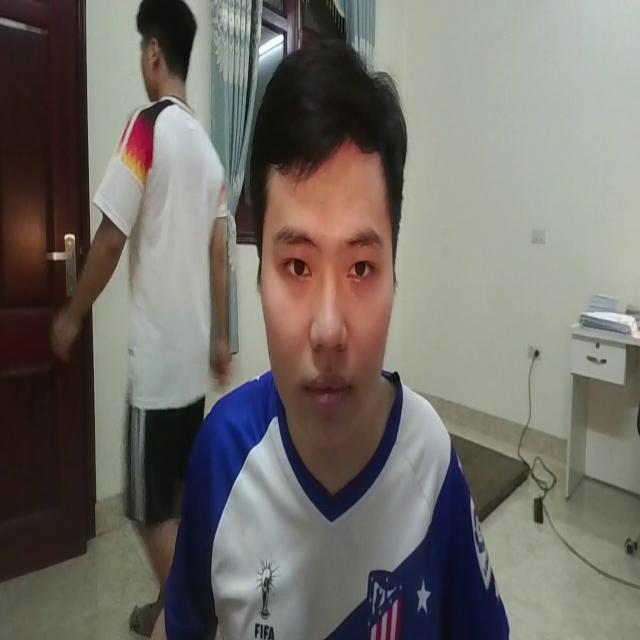extra_person: (36, 0, 242, 639)
student: (147, 39, 511, 640)
